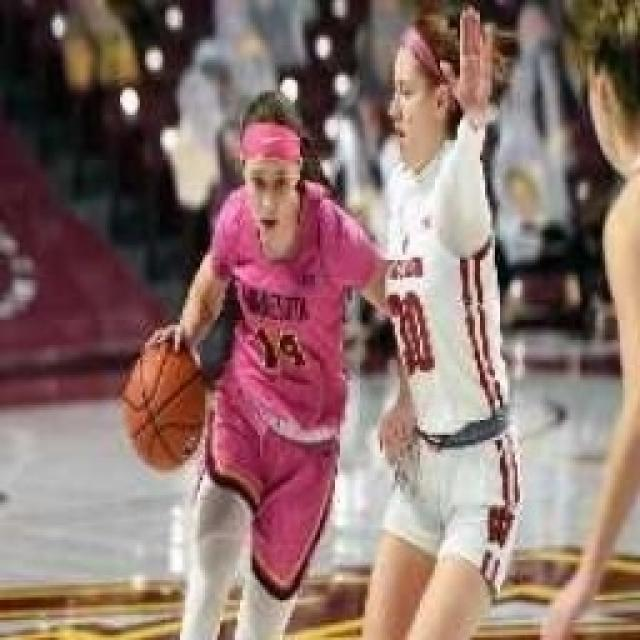rim: (119, 334, 207, 472)
